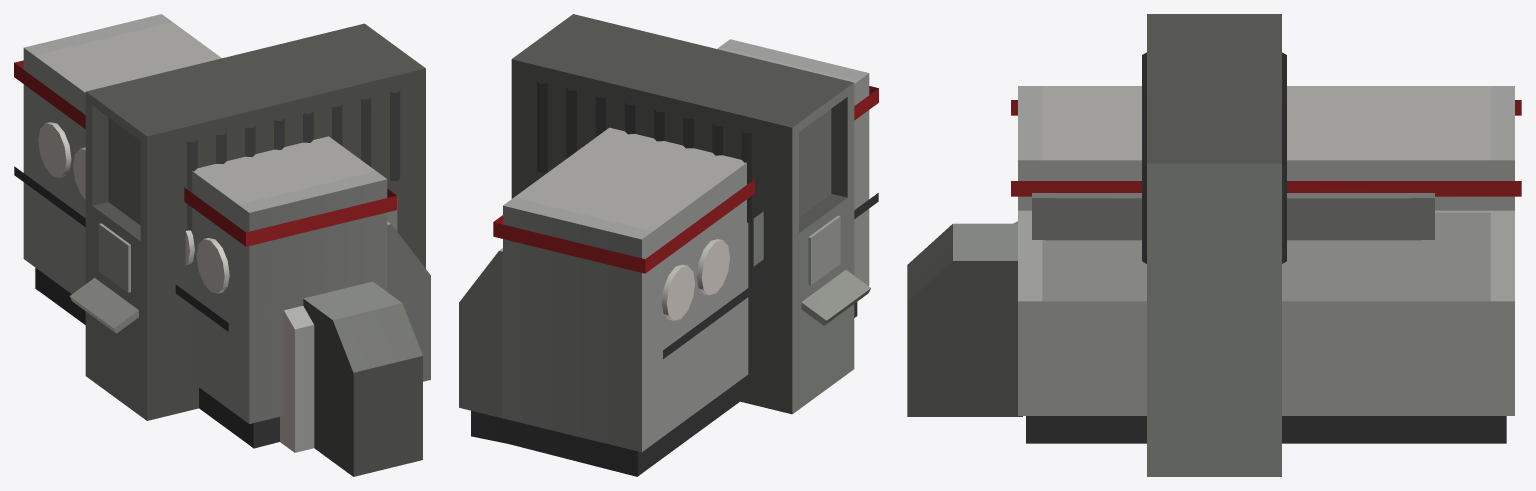
Rendered from Servers.FBX.
3 renders of one model, left to right at view 1: azimuth 30°, elevation 25°; view 2: azimuth 150°, elevation 25°; view 3: azimuth 270°, elevation 25°, orthographic. The views are drawn at different scales.
Visible parts, largest first — view 1: Server_01, Server_02, Server_03; view 2: Server_01, Server_02; view 3: Server_01, Server_02, Server_03.
Boxes of the visible parts, x1,y1,x2,y2 form: Server_01: (14, 14, 430, 476); Server_02: (69, 23, 425, 420); Server_03: (280, 197, 397, 452); Server_01: (459, 39, 878, 476); Server_02: (511, 14, 870, 414); Server_01: (907, 86, 1521, 443); Server_02: (1142, 14, 1286, 476); Server_03: (1013, 193, 1434, 240).
Bounding box in the file's own units: 797 × 713 × 1268.
1 material, 1 textured.
